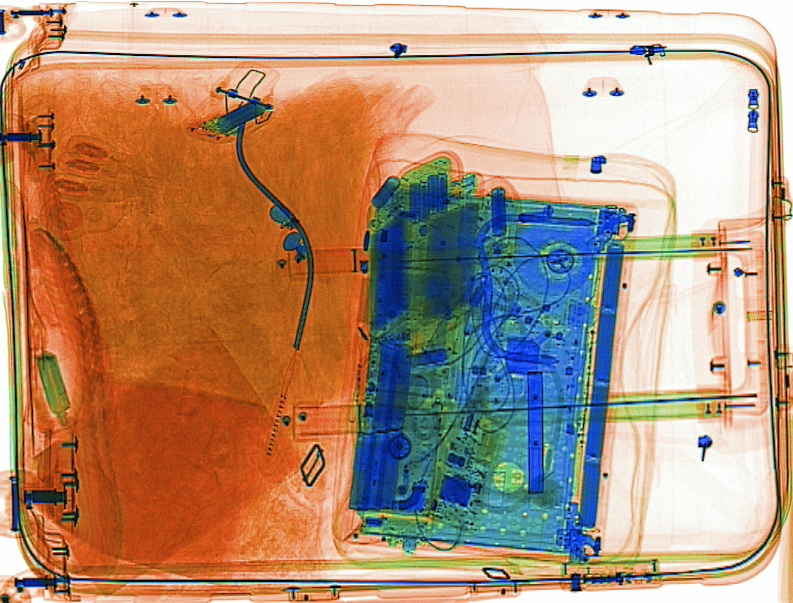powerbank: (345, 335, 415, 513)
